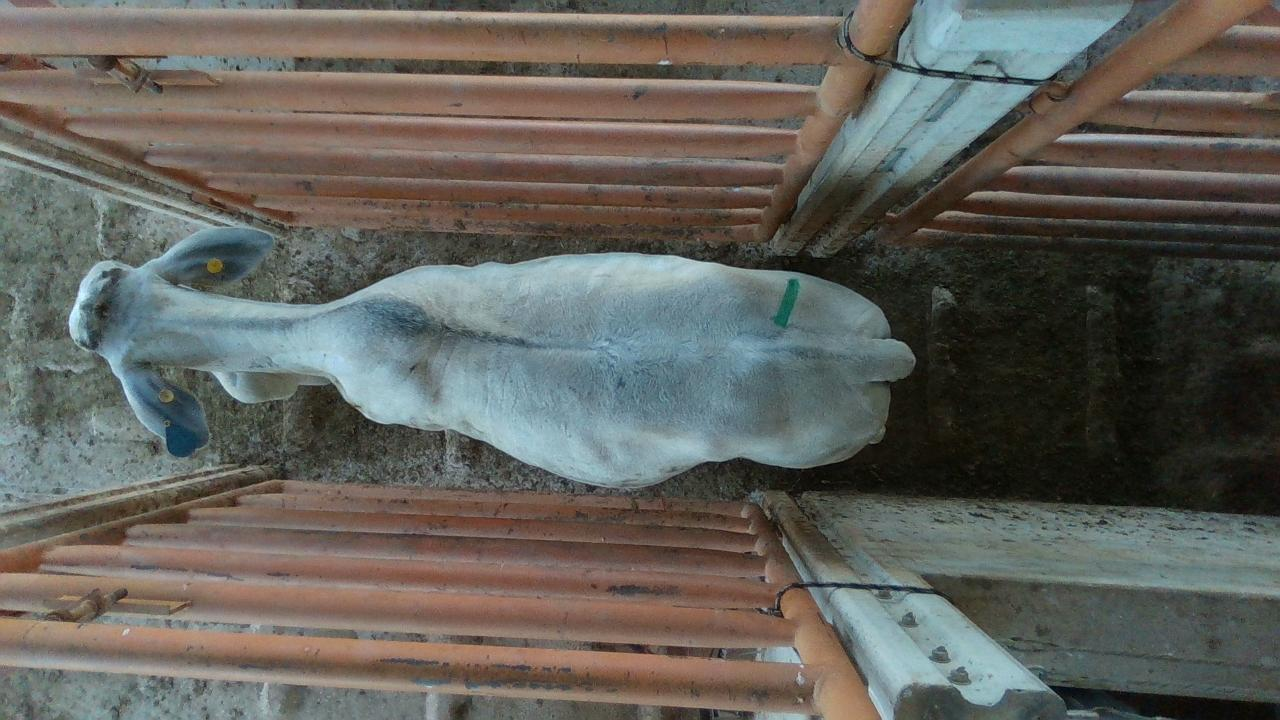cattle: (67, 223, 917, 489)
